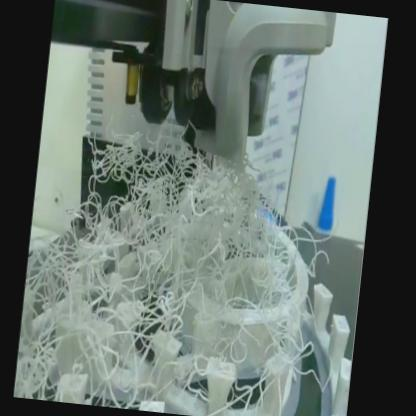fail: (15, 130, 316, 416)
